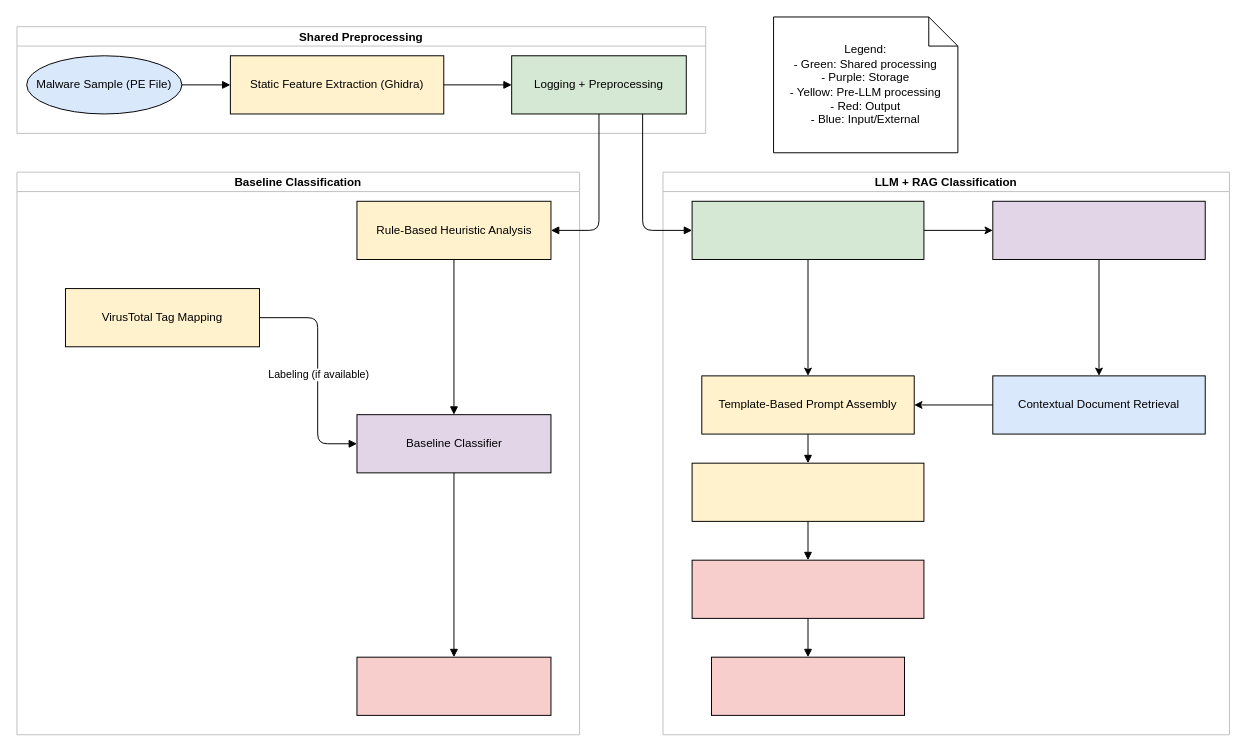
The diagram is 1246 pixels wide and 752 high, and some of its shapes have lost their labels. Here are the shapes that lost their labels. From the top down, the centre of each, then its label:
At (x=807, y=229): "Feature-based Semantic Query (Haystack)".
At (x=1098, y=229): "Vector DB (PostgreSQL + pgvector)".
At (x=807, y=491): "Compliance Filter (Prompt sanitization)".
At (x=807, y=588): "LLM Inference (GPT-4o or DeepSeek-R1)".
At (x=453, y=685): "Static Classification Output".
At (x=808, y=685): "LLM Classification Output".
